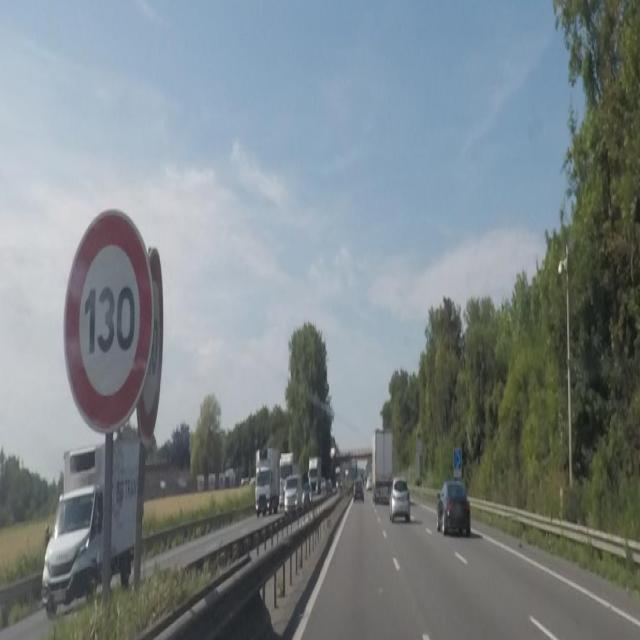speed_130: (64, 212, 152, 428)
